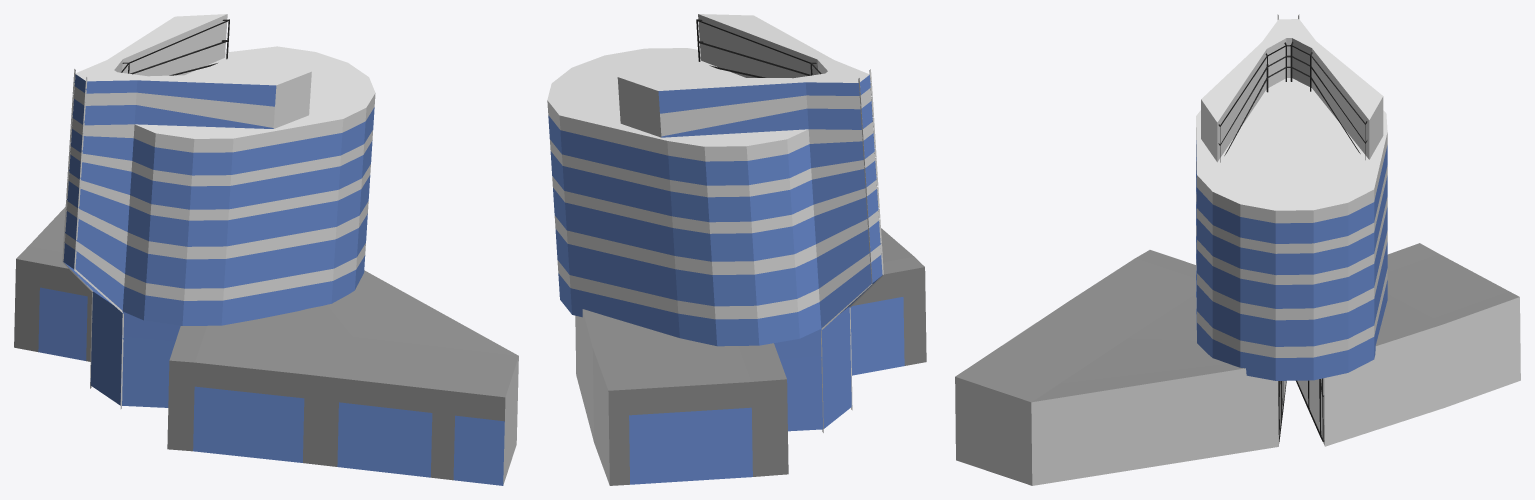
Rendered from Edificio2.fbx.
The picture shows the model from 3 angles, left to right: view 1: azimuth 30°, elevation 25°; view 2: azimuth 150°, elevation 25°; view 3: azimuth 270°, elevation 25°; orthographic projection. The views are drawn at different scales.
Visible parts, largest first — view 1: Edificio2, Edificio2.001, Edificio2.002; view 2: Edificio2, Edificio2.001, Edificio2.002; view 3: Edificio2, Edificio2.002.
Boxes of the visible parts, box(x1,y1,x2,y2) form: Edificio2: box(14, 14, 518, 485); Edificio2.001: box(62, 69, 123, 409); Edificio2.002: box(121, 19, 229, 75); Edificio2: box(547, 14, 926, 485); Edificio2.001: box(821, 69, 883, 432); Edificio2.002: box(696, 19, 821, 77); Edificio2: box(955, 19, 1520, 485); Edificio2.002: box(1218, 41, 1367, 441).
Bounding box in the file's own units: 9602 × 10076 × 15598.
